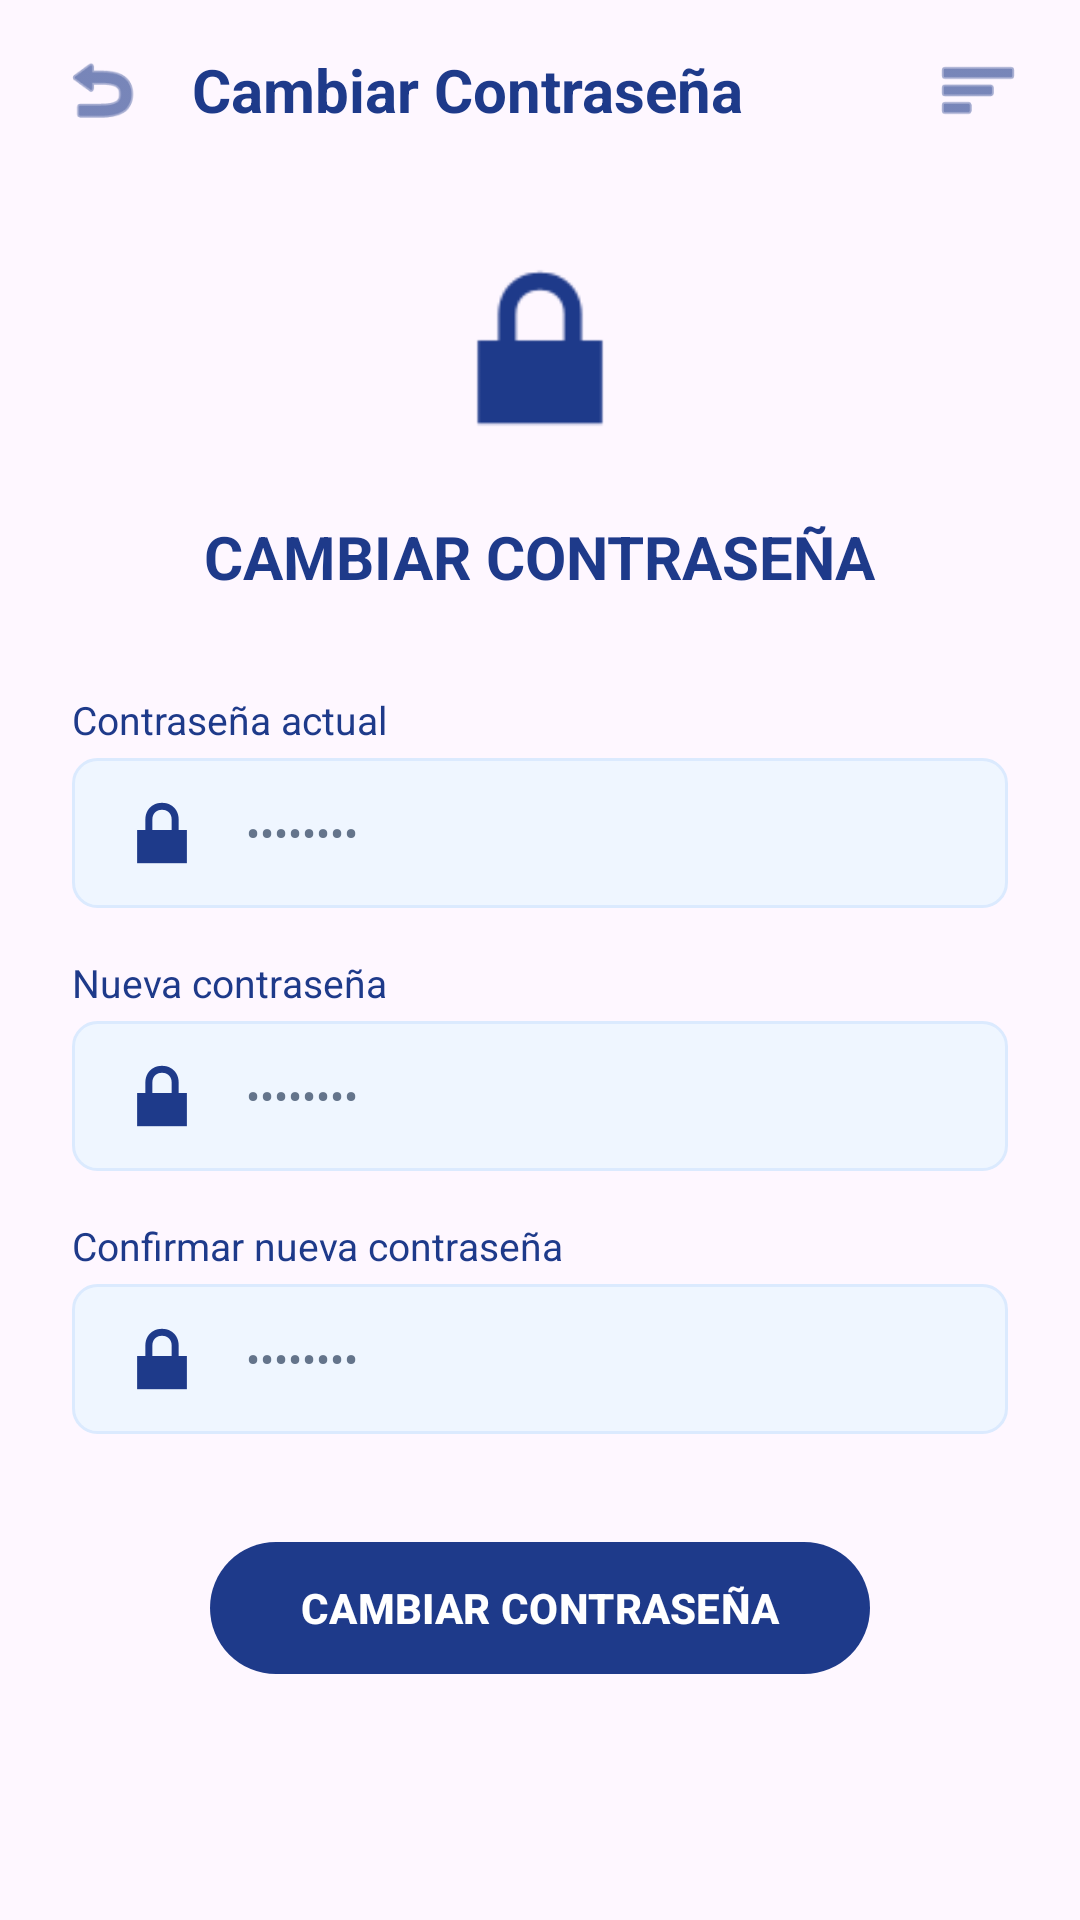

Icons on this 1080x1920 Android screen, each with the point to tap as [x,y]:
Candado: [540,348]
Menú: [978,90]
Regresar: [103,90]
